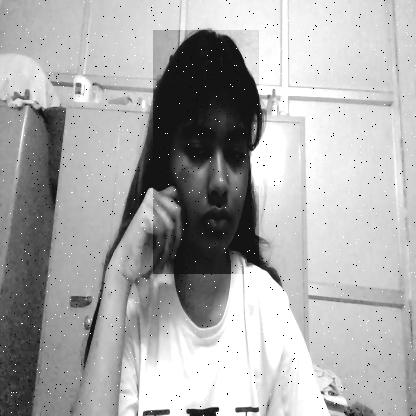Normal: (153, 30, 259, 274)
